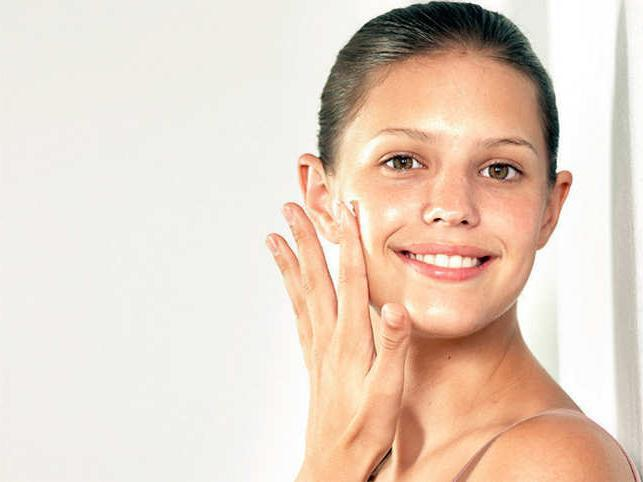Sober: (363, 67, 538, 317)
